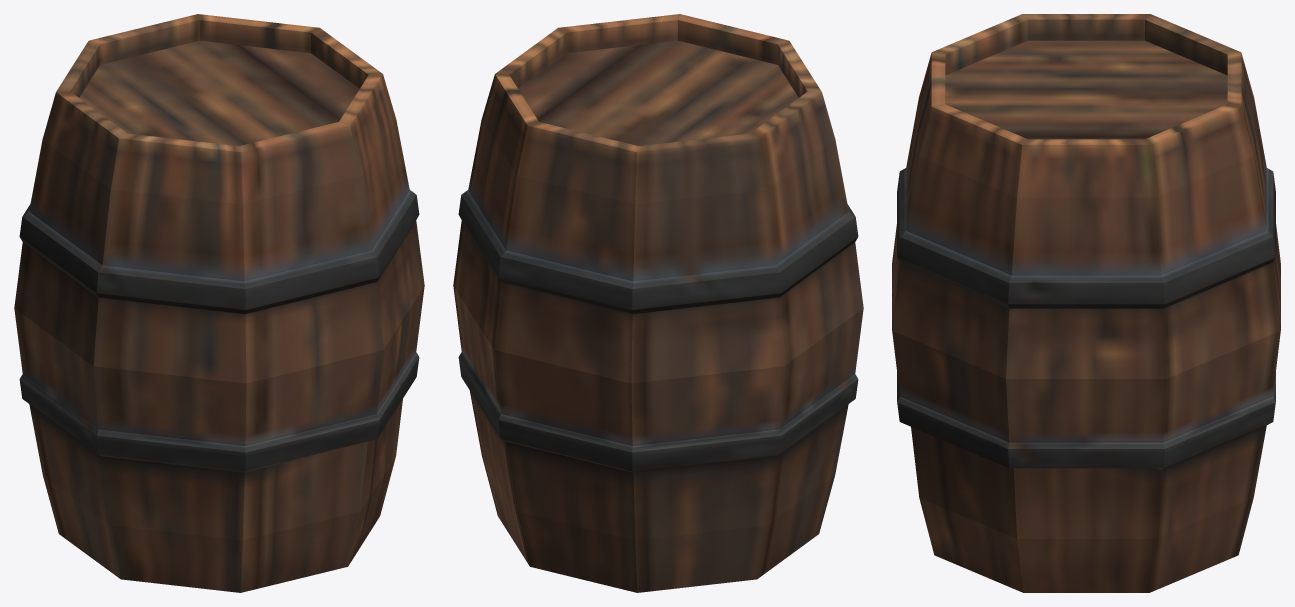
Rendered from mutong_1.FBX.
3 renders of one model, left to right at view 1: azimuth 30°, elevation 25°; view 2: azimuth 150°, elevation 25°; view 3: azimuth 270°, elevation 25°, orthographic.
Parts seen in each view (by area): view 1: mutong_1; view 2: mutong_1; view 3: mutong_1.
Part boxes in pixels (x1,y1,x2,y2): mutong_1: (14, 14, 424, 592); mutong_1: (453, 14, 863, 592); mutong_1: (892, 14, 1280, 592).
Size of the model in its own units: 31.39 by 40.03 by 31.39.
Materials: 1 (1 with a texture image).
